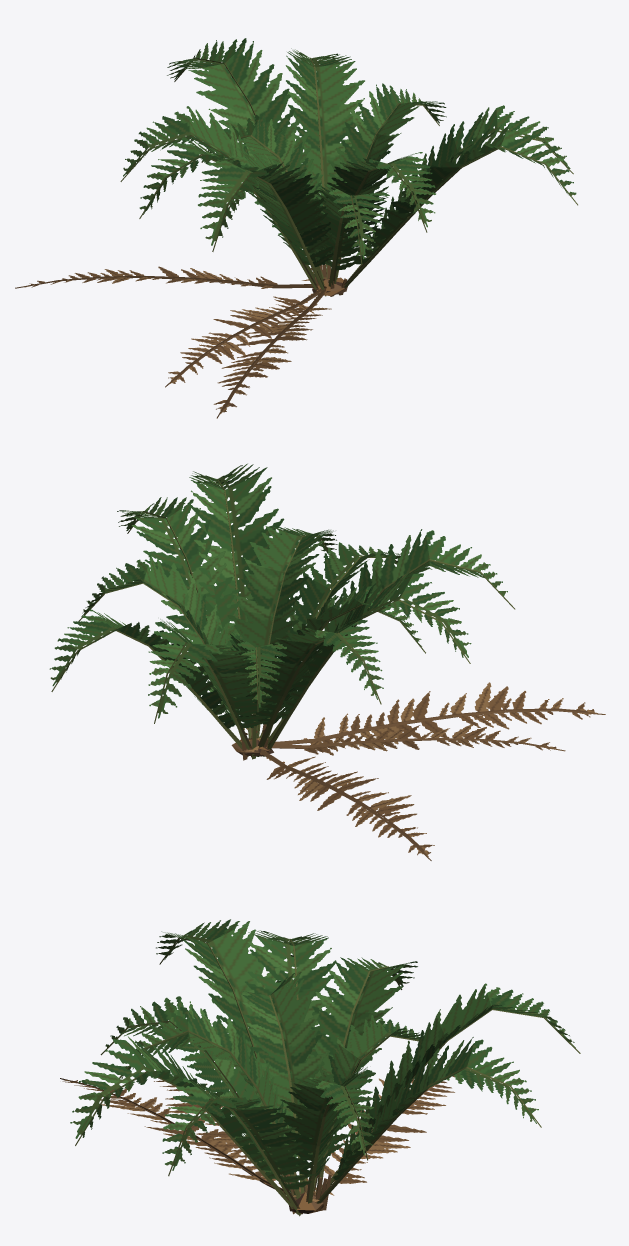
The model's file is fern_sword4_v1.fbx.
3 views of the same model, one above another, from view 1: azimuth 30°, elevation 25°; view 2: azimuth 150°, elevation 25°; view 3: azimuth 270°, elevation 25° (orthographic). The views are drawn at different scales.
Parts seen in each view (by area): view 1: fern_sword4_v1; view 2: fern_sword4_v1; view 3: fern_sword4_v1.
Part boxes in pixels (x1,y1,x2,y2): fern_sword4_v1: [15, 38, 577, 418]; fern_sword4_v1: [49, 463, 605, 860]; fern_sword4_v1: [60, 919, 580, 1216].
Size of the model in its own units: 184 by 77.34 by 182.
